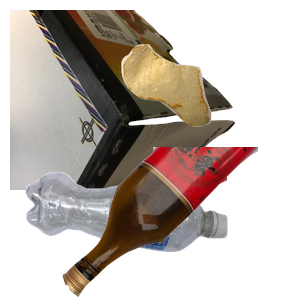cardboard: (10, 10, 238, 190)
glass: (60, 147, 300, 300)
plastic: (23, 169, 243, 300)
trash: (119, 42, 300, 161)
